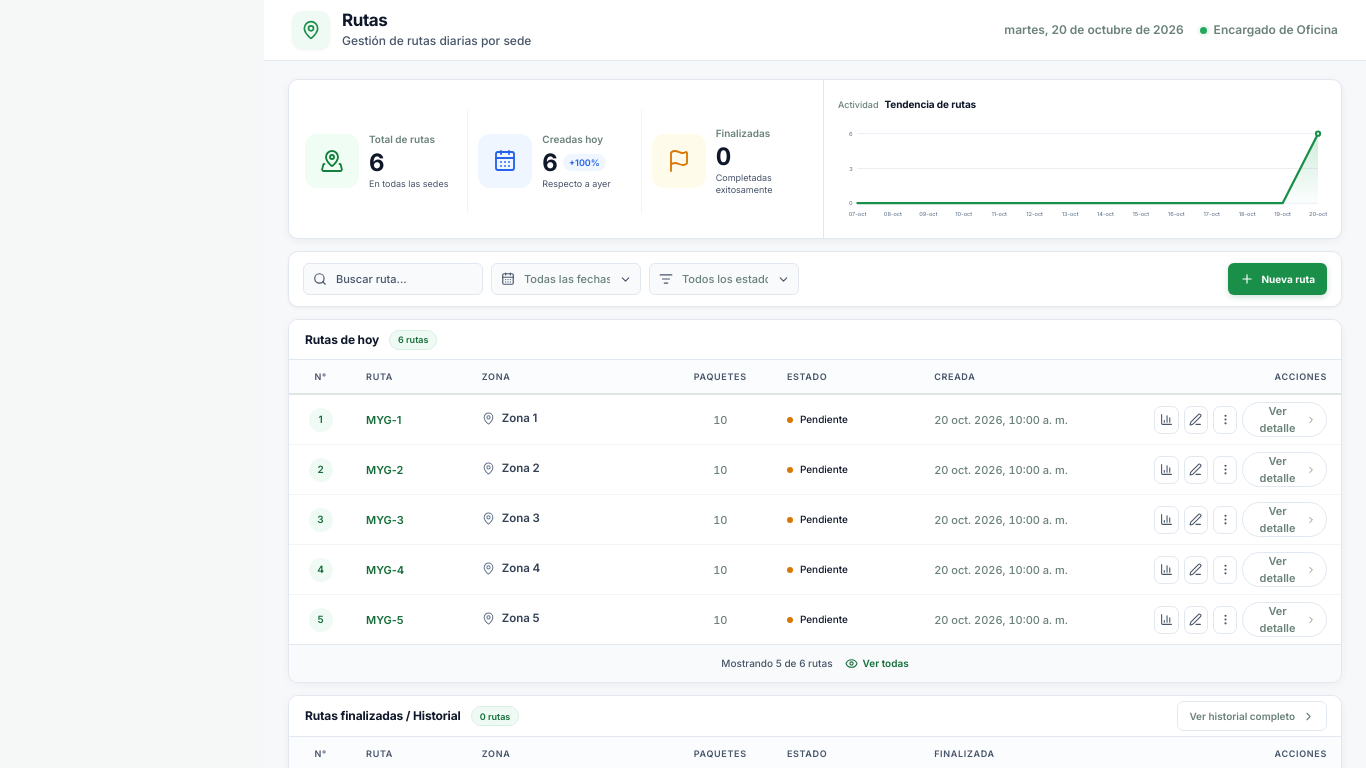
Scenario: Logistica › abre Ver todas con todas las rutas de hoy y sin contaminar el buscador
Expected: the text "MYG-6" is not shown
Click the button "Ver todas": (877, 664) x1=844 y1=656 x2=909 y2=671
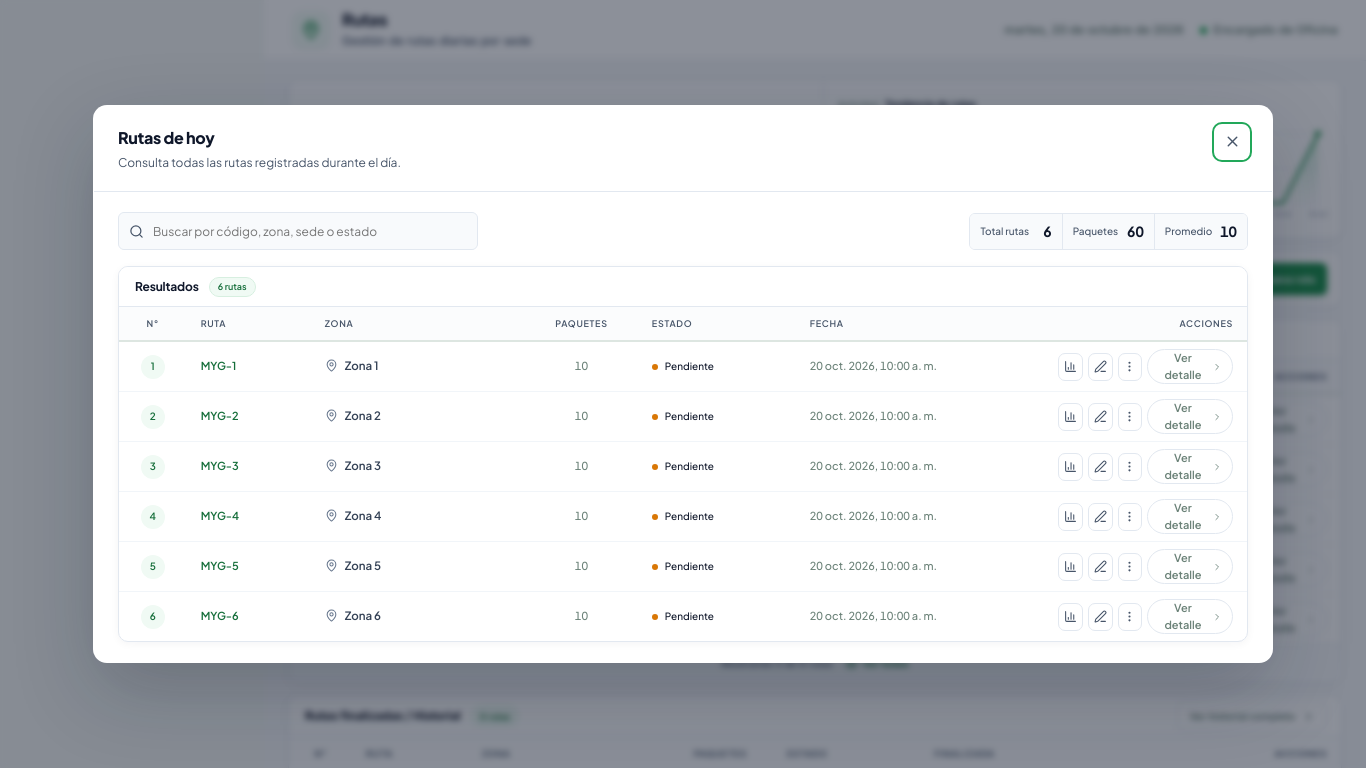
Expected: the dialog "Rutas de hoy" is shown
Expected: the search field named "buscar en el historial" is empty, x1=118 y1=212 x2=478 y2=250
Expected: the text "MYG-6" is shown, x1=201 y1=609 x2=239 y2=622
